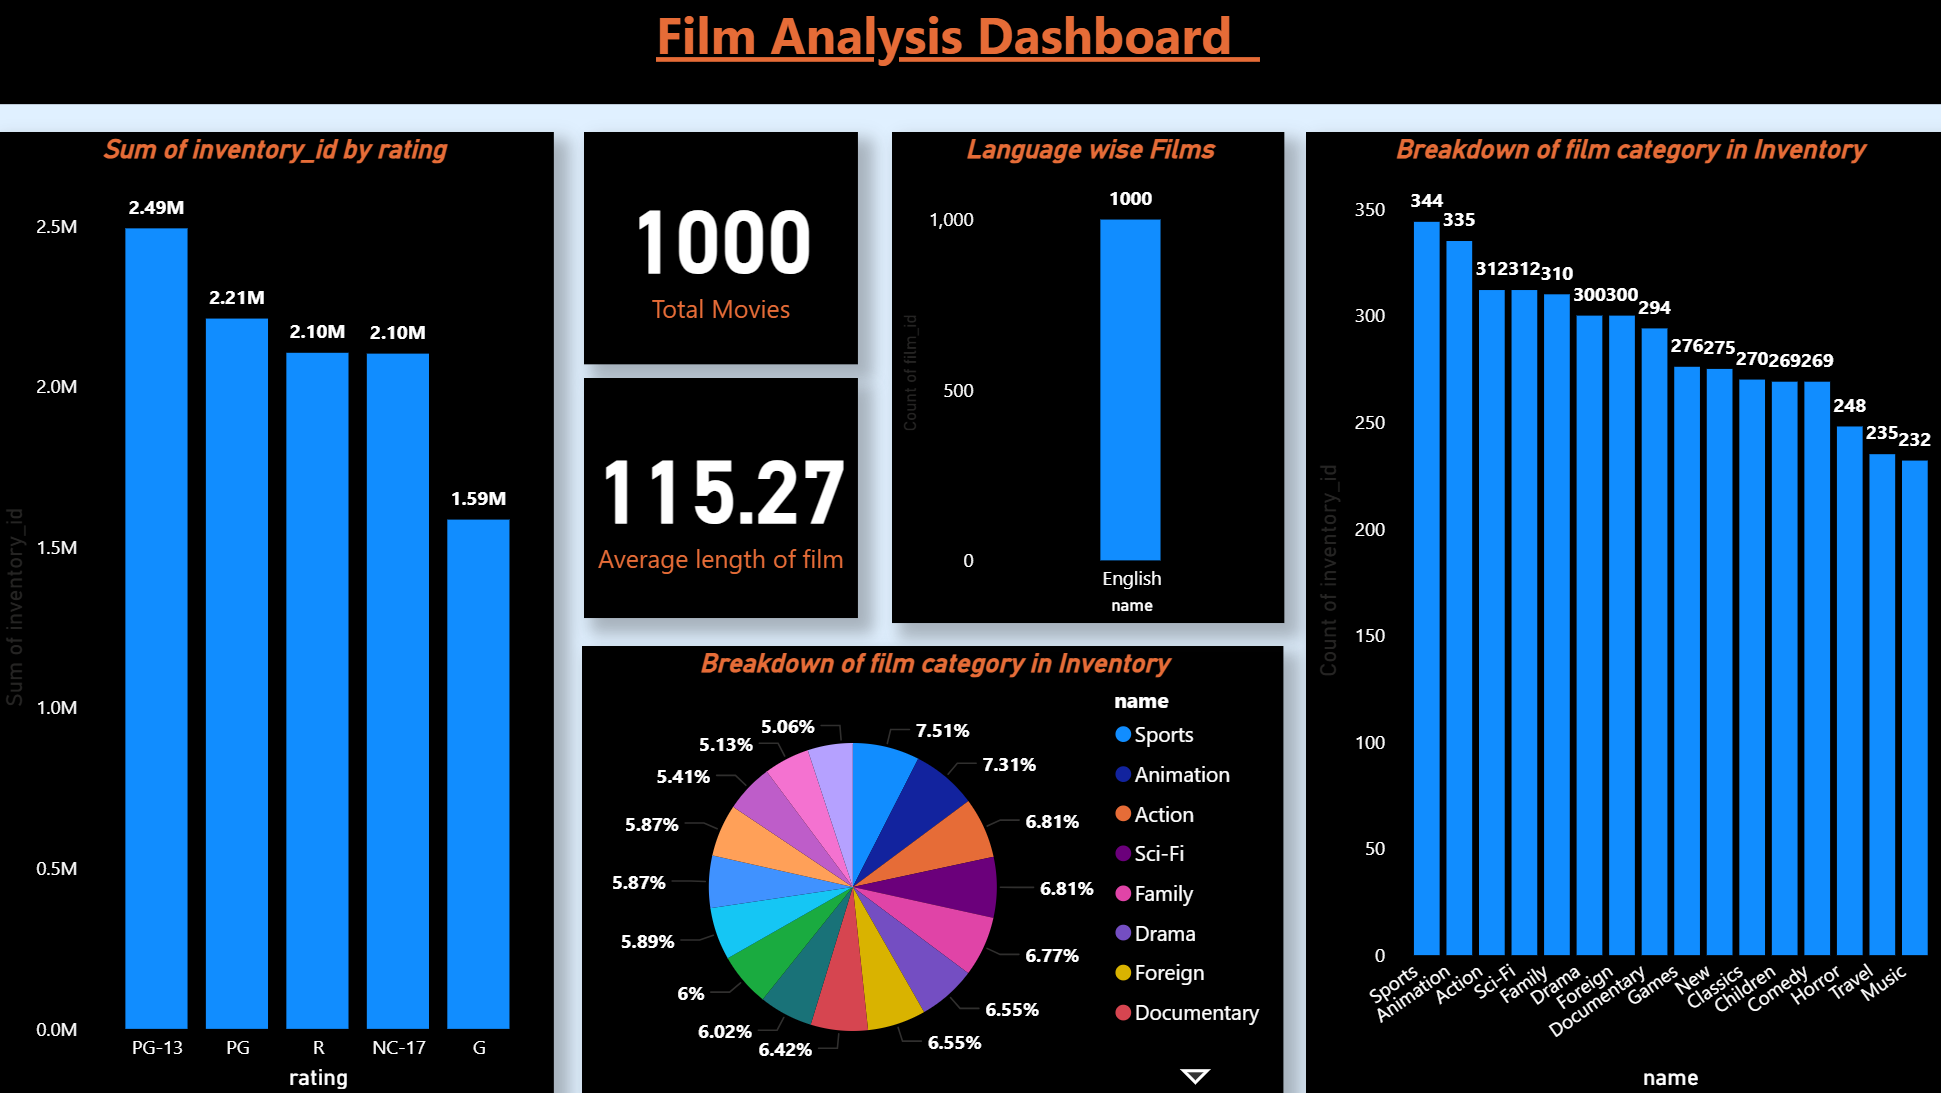

What the dashboard file says about the page in this screenshot:
{"tool":"powerbi","page":{"name":"Film ","canvas":[1280,720],"ordinal":1},"visuals":[{"type":"textbox","box":[0,0,1264.7,71.4],"z":0},{"type":"columnChart","fields":{"Category":["film.rating"],"Y":["Sum(inventory.inventory_id)"]},"box":[16.6,89.4,357.8,616.2],"z":3000},{"type":"pieChart","title":"Breakdown of film category in Inventory","fields":{"Category":["category.name"],"Y":["CountNonNull(inventory.inventory_id)"]},"box":[392.6,417.4,447.2,288.2],"z":4000},{"type":"columnChart","title":"Language wise Films","fields":{"Category":["language.name"],"Y":["CountNonNull(film.film_id)"]},"box":[589.7,89.4,250.1,313.1],"z":5000},{"type":"columnChart","title":"Breakdown of film category in Inventory","fields":{"Category":["category.name"],"Y":["Count(inventory.inventory_id)"]},"box":[854.7,89.4,410.8,616.2],"z":6000},{"type":"card","fields":{"Values":["film.Total Movies"]},"box":[393.9,89.2,174.7,147.9],"z":7000},{"type":"card","fields":{"Values":["film.Average length of film"]},"box":[393.9,246.1,174.7,153],"z":8000}]}

Visuals, with their boxes in screenshot pixels (x1, y1, x2, y2), scaled from the page's 1280x720 canvas onto the 1941x1093 screenshot:
textbox: bbox=(0, 0, 1918, 108)
columnChart - film.rating x Sum(inventory.inventory_id): bbox=(25, 136, 568, 1071)
"Breakdown of film category in Inventory" pieChart: bbox=(595, 634, 1273, 1071)
"Language wise Films" columnChart: bbox=(894, 136, 1273, 611)
"Breakdown of film category in Inventory" columnChart: bbox=(1296, 136, 1919, 1071)
card - film.Total Movies: bbox=(597, 135, 862, 360)
card - film.Average length of film: bbox=(597, 374, 862, 606)
